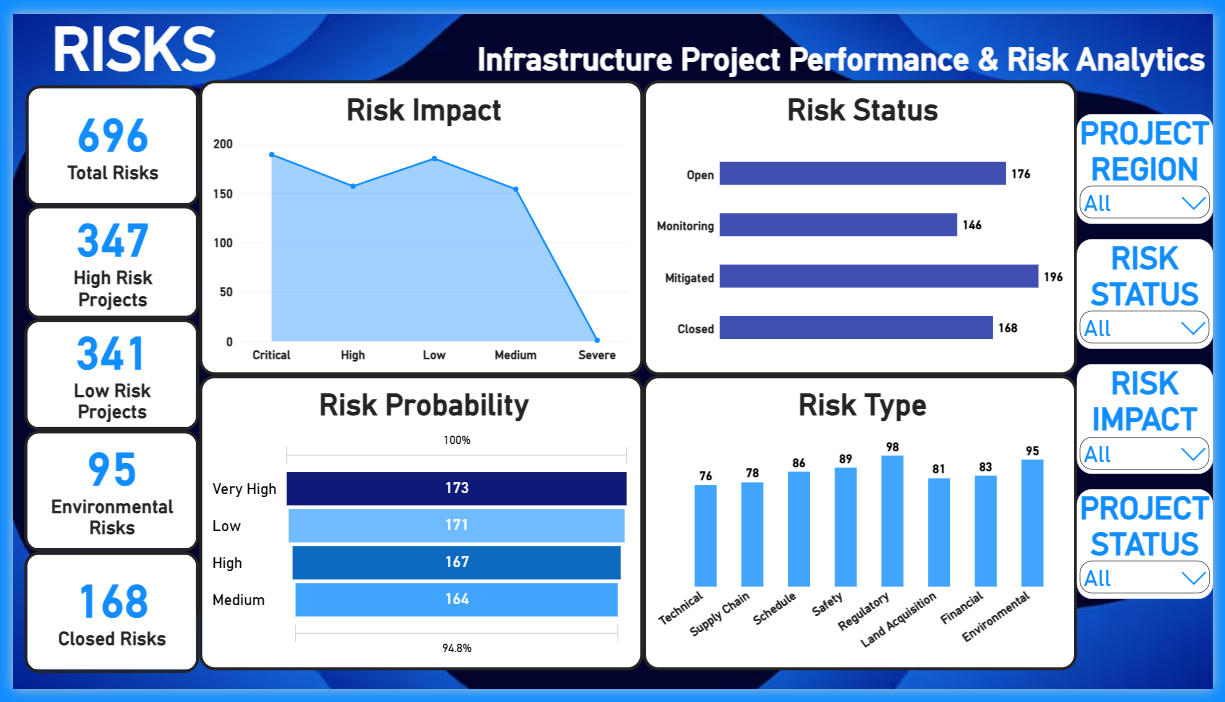

This screenshot's page, from the dashboard's own definition file:
{"tool":"powerbi","page":{"name":"Risks","canvas":[1920,1080],"ordinal":4},"visuals":[{"type":"textbox","box":[0,0,1920,114],"z":0},{"type":"areaChart","title":"Risk Impact","fields":{"Category":["Risks.Impact"],"Y":["CountNonNull(Risks.Risk_ID)"]},"box":[298,106,710,472],"z":1000},{"type":"cardVisual","fields":{"Data":["CountNonNull(Risks.Risk_ID)"]},"box":[20,114,278,194],"z":2000},{"type":"clusteredBarChart","title":"Risk Status","fields":{"Category":["Risks.Risk_Status"],"Y":["CountNonNull(Risks.Risk_ID)"]},"box":[1008,106,694,472],"z":3000},{"type":"columnChart","title":"Risk Type","fields":{"Category":["Risks.Risk_Type"],"Y":["CountNonNull(Risks.Risk_ID)"]},"box":[1008,578,694,472],"z":4000},{"type":"funnel","title":"Risk Probability","fields":{"Category":["Risks.Probability"],"Y":["CountNonNull(Risks.Risk_ID)"]},"box":[298,578,710,472],"z":5000},{"type":"cardVisual","fields":{"Data":["CountNonNull(Risks.Risk_ID)"]},"box":[20,306,278,182],"z":6000},{"type":"cardVisual","fields":{"Data":["CountNonNull(Risks.Risk_ID)"]},"box":[18,488,280,178],"z":7000},{"type":"cardVisual","fields":{"Data":["CountNonNull(Risks.Risk_ID)"]},"box":[18,860,280,194],"z":8000},{"type":"cardVisual","fields":{"Data":["CountNonNull(Risks.Risk_ID)"]},"box":[18,666,280,194],"z":9000},{"type":"textbox","box":[1702,160,218,176],"z":10000},{"type":"slicer","fields":{"Values":["Projects.Region"]},"box":[1702,270,218,76],"z":11000},{"type":"textbox","box":[1702,360,218,176],"z":12000},{"type":"textbox","box":[1702,560,218,176],"z":13000},{"type":"textbox","box":[1702,760,218,176],"z":14000},{"type":"slicer","fields":{"Values":["Projects.Status"]},"box":[1702,870,218,76],"z":15000},{"type":"slicer","fields":{"Values":["Risks.Risk_Status"]},"box":[1702.8,470.5,217.2,76],"z":16000},{"type":"slicer","fields":{"Values":["Risks.Impact"]},"box":[1702.8,671.4,217.2,76],"z":17000}]}

Visuals, with their boxes in screenshot pixels (x1, y1, x2, y2), scaled from the page's 1920x1080 canvas onto the 1225x702 screenshot:
textbox: region(0, 0, 1224, 74)
"Risk Impact" areaChart: region(190, 69, 643, 376)
cardVisual - CountNonNull(Risks.Risk_ID): region(13, 74, 190, 200)
"Risk Status" clusteredBarChart: region(643, 69, 1086, 376)
"Risk Type" columnChart: region(643, 376, 1086, 682)
"Risk Probability" funnel: region(190, 376, 643, 682)
cardVisual - CountNonNull(Risks.Risk_ID): region(13, 199, 190, 317)
cardVisual - CountNonNull(Risks.Risk_ID): region(11, 317, 190, 433)
cardVisual - CountNonNull(Risks.Risk_ID): region(11, 559, 190, 685)
cardVisual - CountNonNull(Risks.Risk_ID): region(11, 433, 190, 559)
textbox: region(1086, 104, 1224, 218)
slicer - Projects.Region: region(1086, 176, 1224, 225)
textbox: region(1086, 234, 1224, 348)
textbox: region(1086, 364, 1224, 478)
textbox: region(1086, 494, 1224, 608)
slicer - Projects.Status: region(1086, 566, 1224, 615)
slicer - Risks.Risk_Status: region(1086, 306, 1224, 355)
slicer - Risks.Impact: region(1086, 436, 1224, 486)
